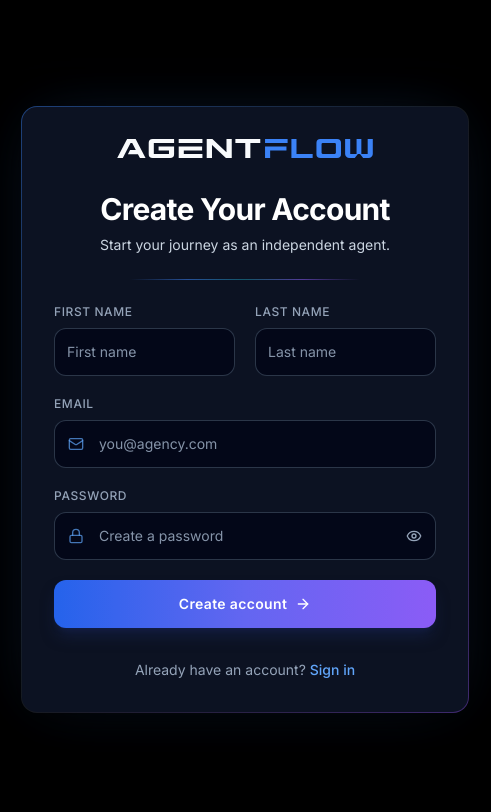
Test case: SignupPage (/signup) › password policy › shows the live checklist only once the user types, headed 'Password requirements'
The width and height of the screenshot is (491, 812).
Expected: the text "Password requirements" is not shown
Expected: the text "At least one uppercase letter" is not shown
Type "short" into the password field labelled "Password". click: (245, 536)
box: [54,512,436,560]
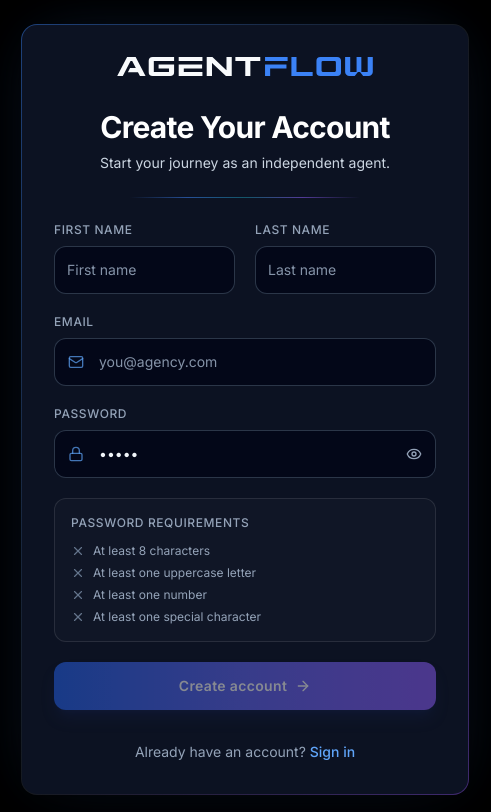
Expected: the text "Password requirements" is shown, [71,514,249,530]
